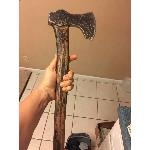Kapak: (42, 5, 98, 150)
